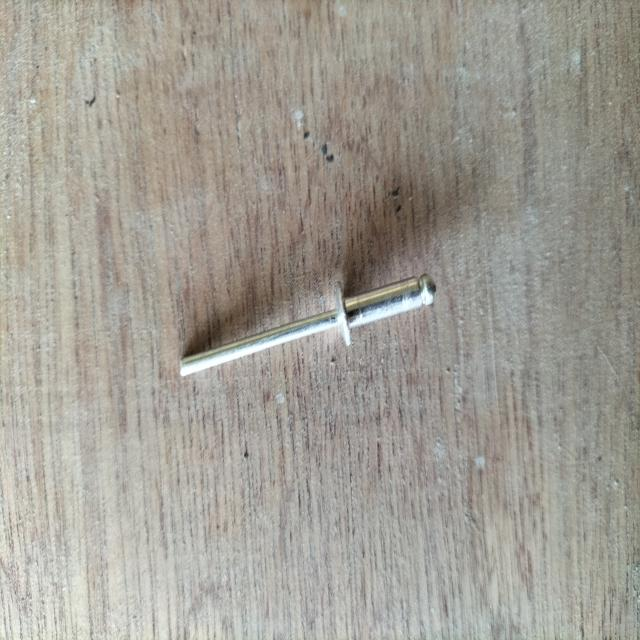rivet: (180, 273, 435, 377)
